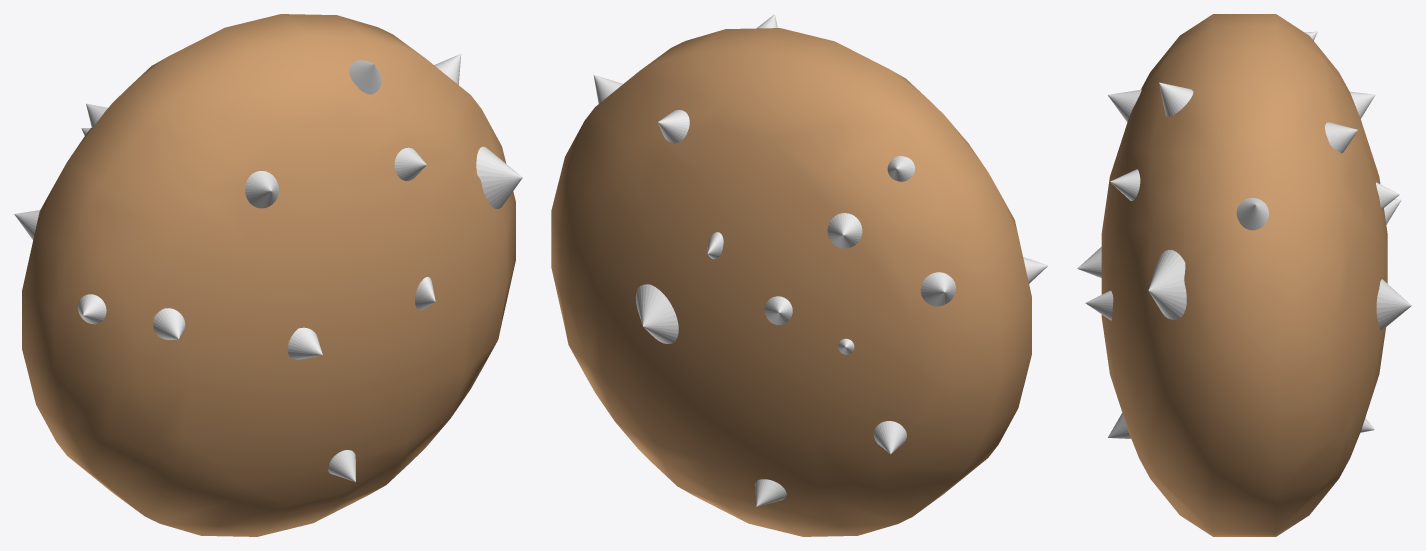
The model's file is cookie.gltf.
3 views of the same model, side by side, from view 1: azimuth 30°, elevation 25°; view 2: azimuth 150°, elevation 25°; view 3: azimuth 270°, elevation 25° (orthographic). The views are drawn at different scales.
Visible parts, largest first — view 1: Mball.001, Cone.003, Cone.001, Cone.011, Cone.006, Cone.008, Cone, Cone.009, Cone.005; view 2: Mball.001, Cone.016, Cone.019, Cone.007, Cone.012, Cone.017, Cone.010, Cone.014; view 3: Mball.001, Cone.003, Cone.016, Cone.002, Cone.006, Cone.017, Cone, Cone.001, Cone.004, Cone.011.
Boxes of the visible parts, <box> form: Mball.001: <box>22,14,515,536</box>; Cone.003: <box>476,146,522,208</box>; Cone.001: <box>245,171,278,208</box>; Cone.011: <box>287,327,322,359</box>; Cone.006: <box>349,60,381,94</box>; Cone.008: <box>153,308,185,339</box>; Cone: <box>394,147,426,180</box>; Cone.009: <box>78,294,106,324</box>; Cone.005: <box>328,450,355,481</box>; Mball.001: <box>551,28,1031,536</box>; Cone.016: <box>635,284,678,343</box>; Cone.019: <box>827,213,862,248</box>; Cone.007: <box>920,272,955,306</box>; Cone.012: <box>873,421,906,453</box>; Cone.017: <box>658,110,689,143</box>; Cone.010: <box>755,479,786,506</box>; Cone.014: <box>764,296,792,324</box>; Mball.001: <box>1101,14,1387,536</box>; Cone.003: <box>1148,250,1186,319</box>; Cone.016: <box>1376,279,1411,330</box>; Cone.002: <box>1236,198,1268,230</box>; Cone.006: <box>1159,82,1193,116</box>; Cone.017: <box>1325,122,1357,153</box>; Cone: <box>1110,169,1140,200</box>; Cone.001: <box>1107,89,1141,122</box>; Cone.004: <box>1085,290,1113,320</box>; Cone.011: <box>1077,247,1101,277</box>.
Bounding box in the file's own units: 3.29 × 3.31 × 2.13.
